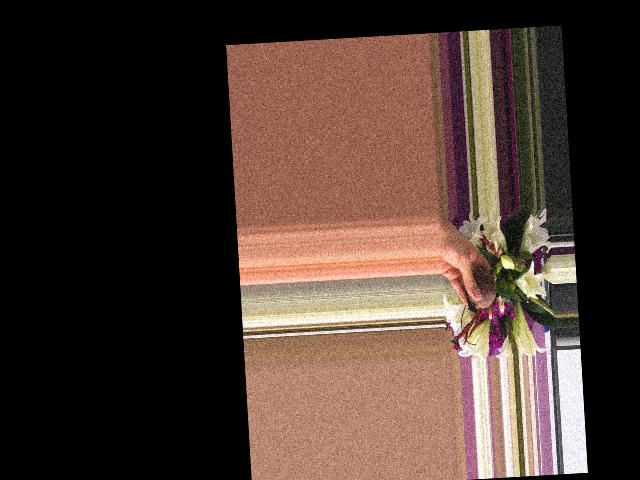beet: (464, 258, 504, 313)
